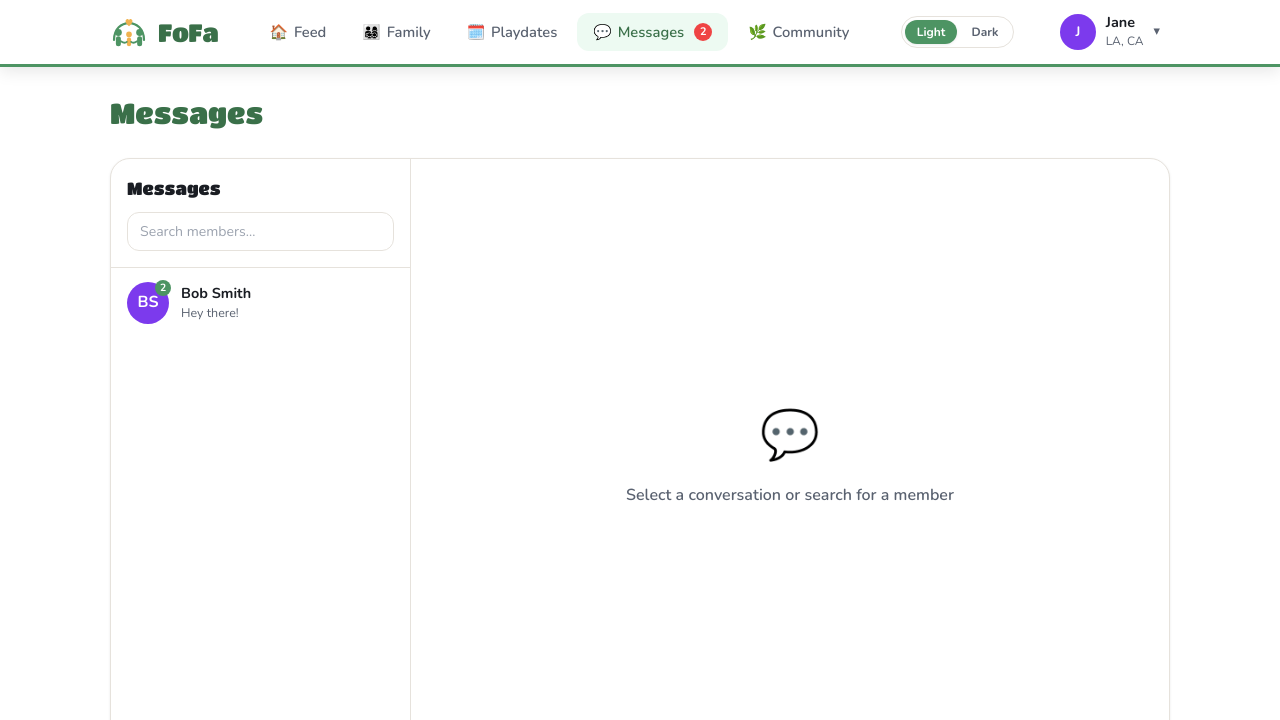
Test: UC-05: Direct Messaging › sends a message successfully
This screenshot has width=1280, height=720.
Click the button "BS 2 Bob Smith Hey there!" at point(148, 303), box [111,268,410,338]
(page scrolled)
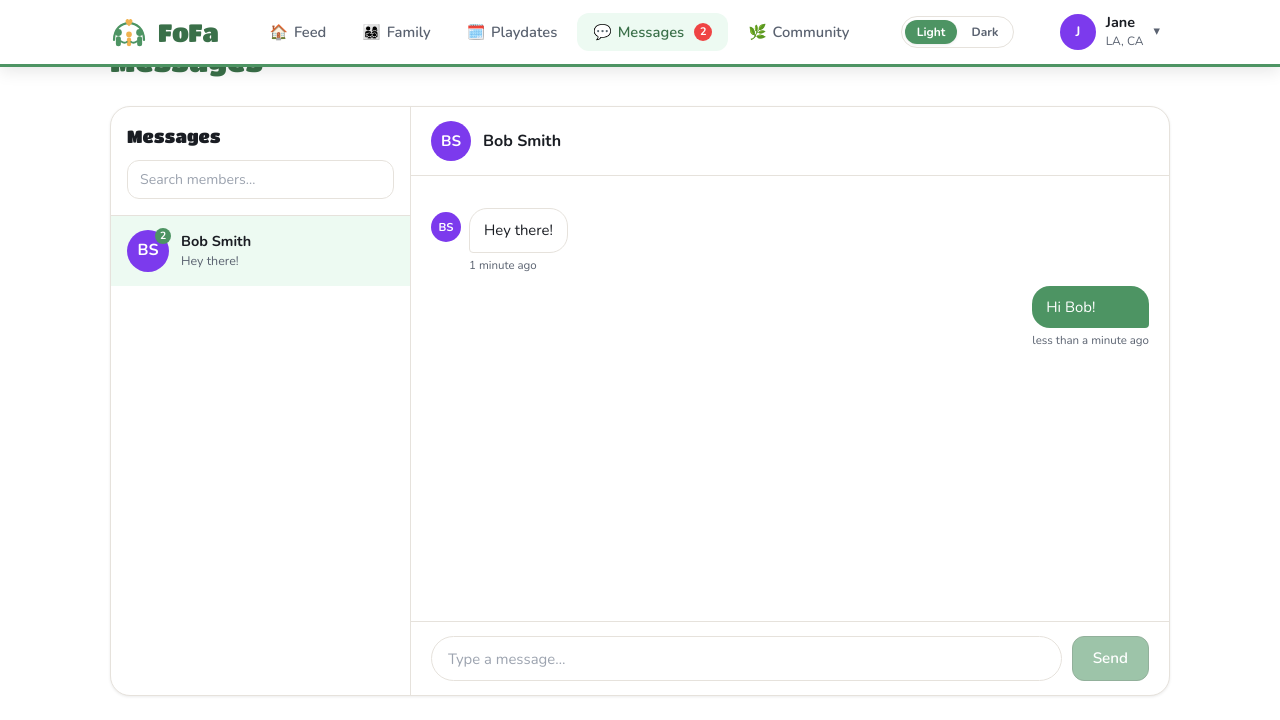
Scroll
Type "How are you doing?" into the field with placeholder "Type a message…" at point(747, 659), box [431,636,1062,681]
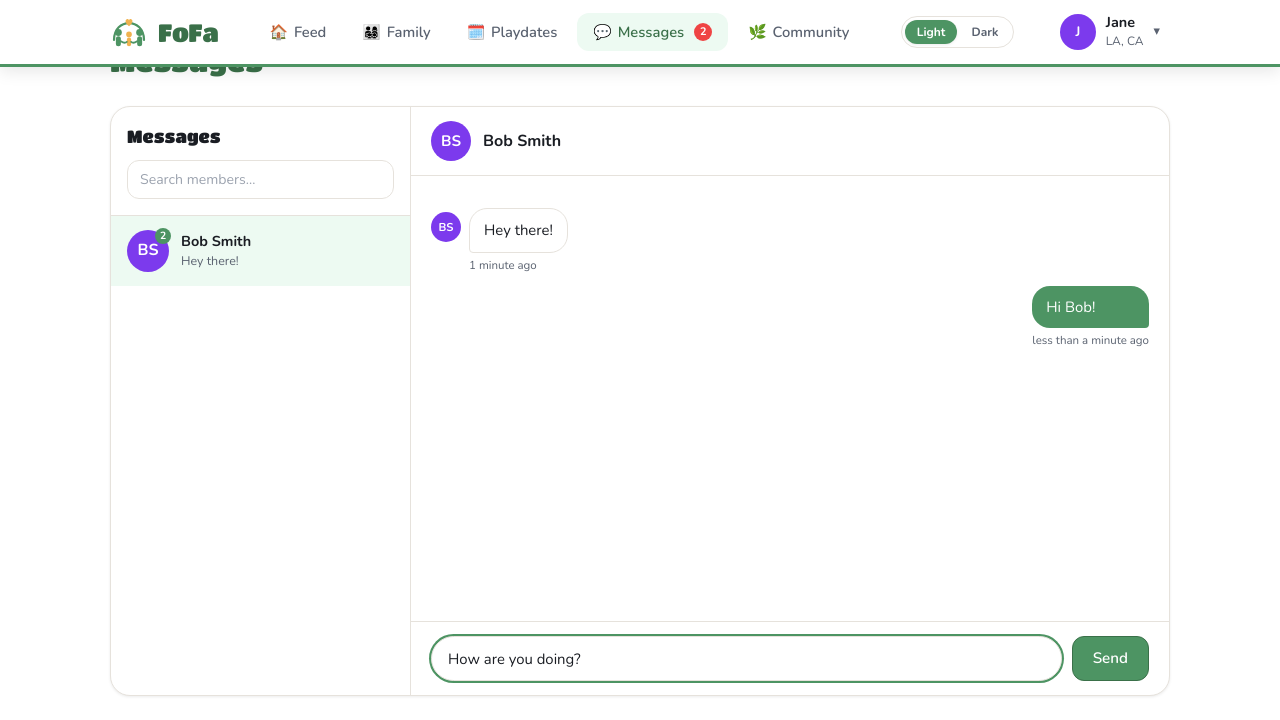
Click the button "Send" at point(1111, 659), box [1072,636,1149,681]
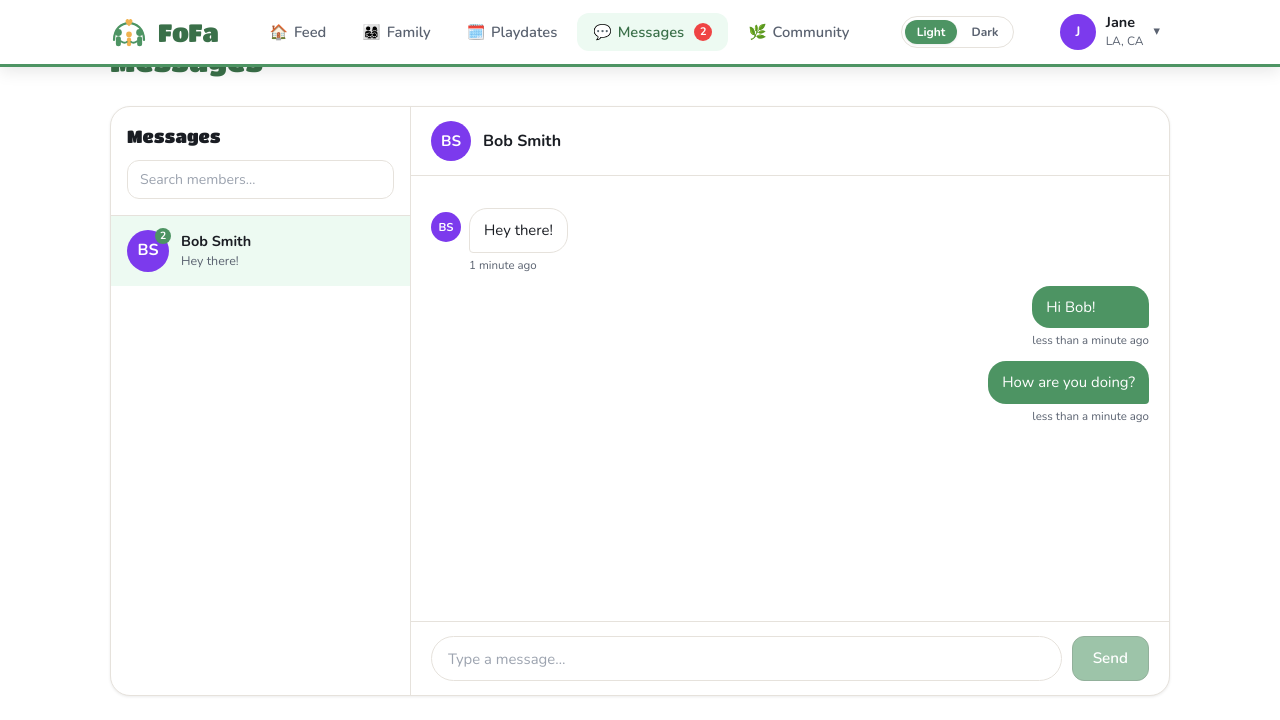
Result: the text "How are you doing?" is shown at [988,361,1149,404]
